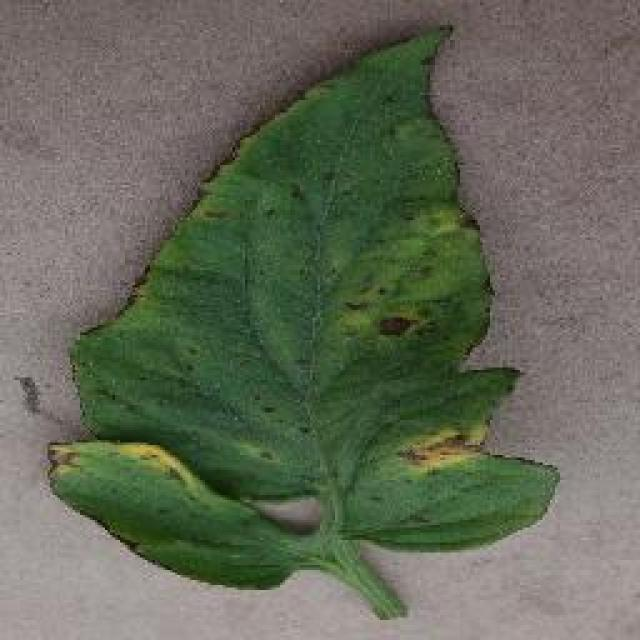Tomato bacterial spot leaf: (40, 18, 565, 595)
